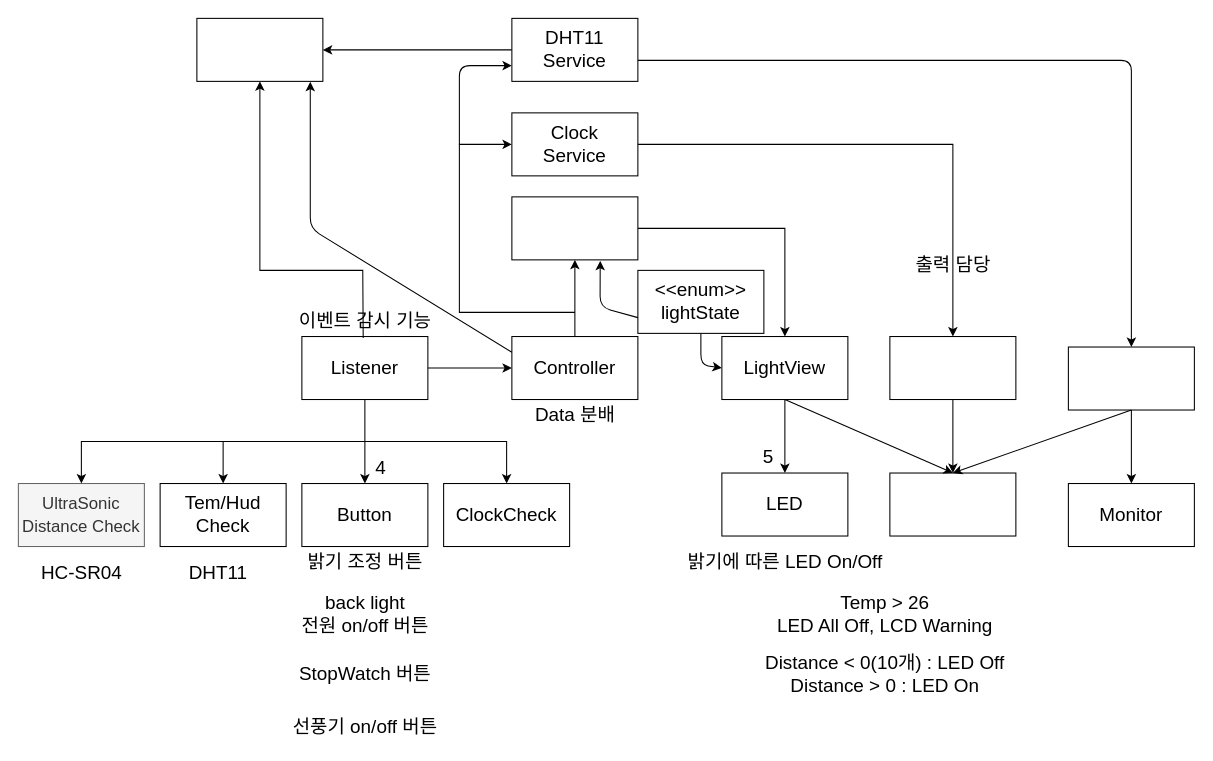
The diagram is 1213 pixels wide and 761 high, and some of its shapes have lost their labels. Each missing label, with the centre of its shape:
"ClockView" goes at pixel 952 367.
"DHT11View" goes at pixel 1130 378.
"DHT_Data" goes at pixel 259 49.
"LCD" goes at pixel 952 504.
"StandLight Service" goes at pixel 574 228.
"상태머신" goes at pixel 574 96.
